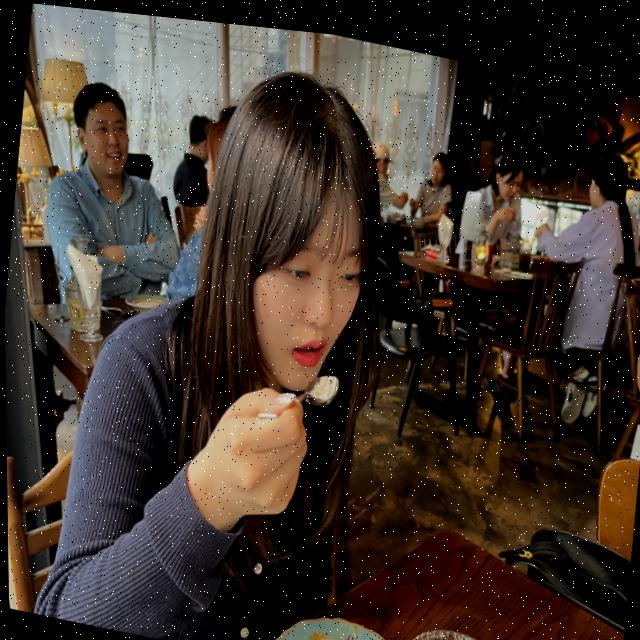eating-person: (33, 13, 468, 640)
